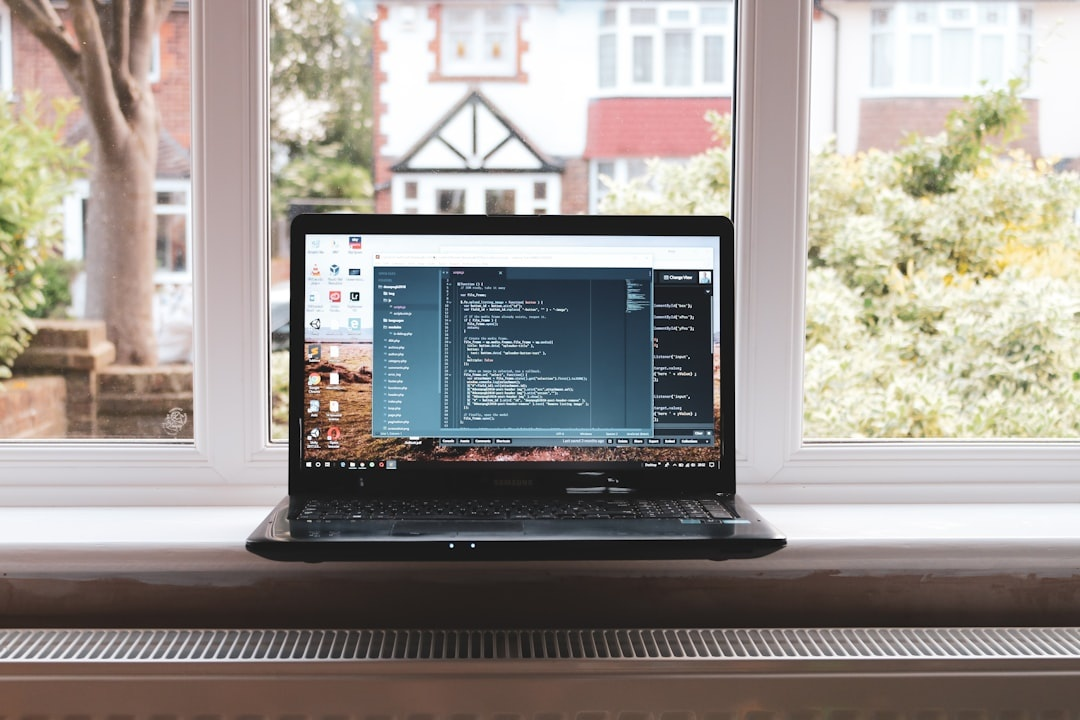laptop: (205, 189, 826, 585)
